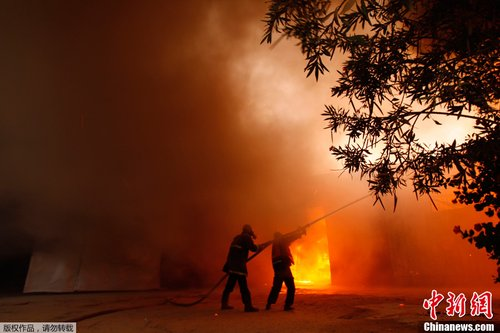fire: (277, 221, 345, 293)
smoke: (19, 8, 240, 213)
